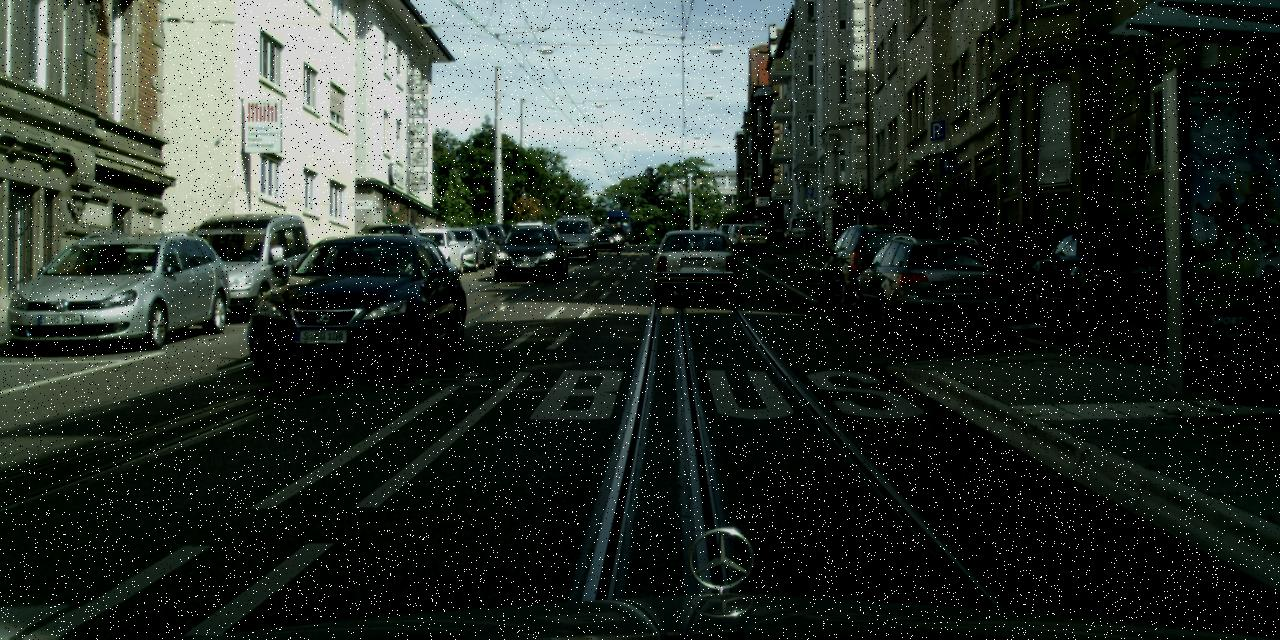ped: (613, 222, 623, 248)
